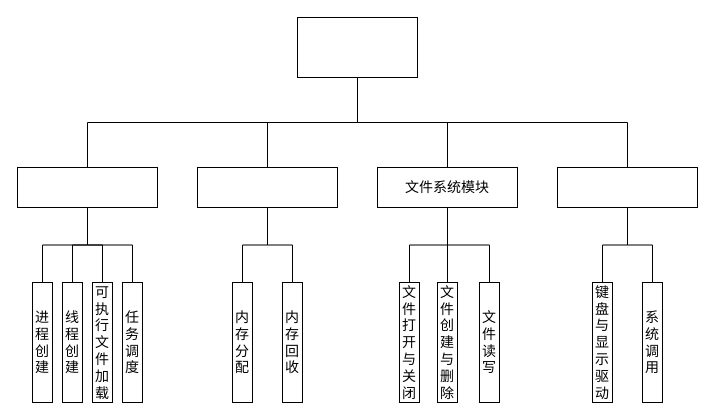
Some shapes in this 715 by 420 pixel diagram are drawn without their labels. Each missing label, with the box of its shape:
OS: (296, 16, 418, 78)
任务调度模块: (16, 166, 158, 208)
内存管理模块: (196, 166, 338, 208)
用户接口: (556, 166, 698, 208)
